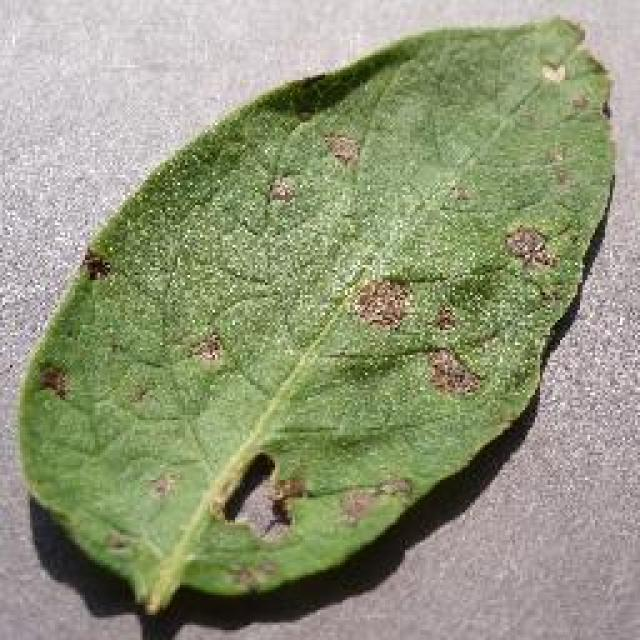Potato: (12, 13, 618, 615)
